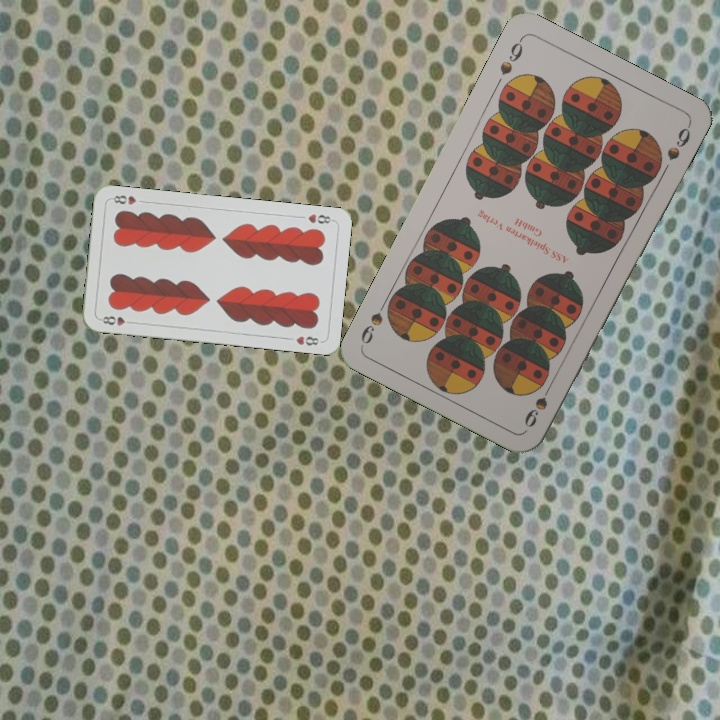H8: (96, 312, 136, 328), (304, 210, 336, 226)
S9: (520, 376, 556, 430), (495, 34, 526, 78)
